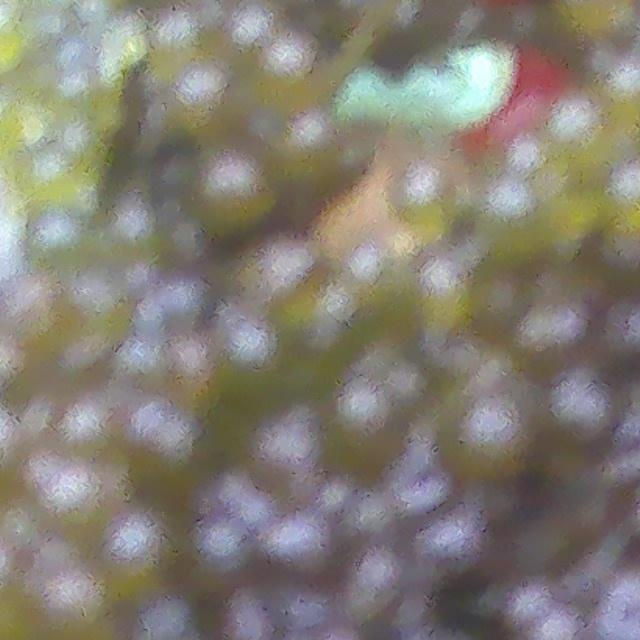SeaGrape: (466, 393, 535, 483), (343, 552, 424, 623), (426, 512, 495, 577), (268, 514, 324, 570)
